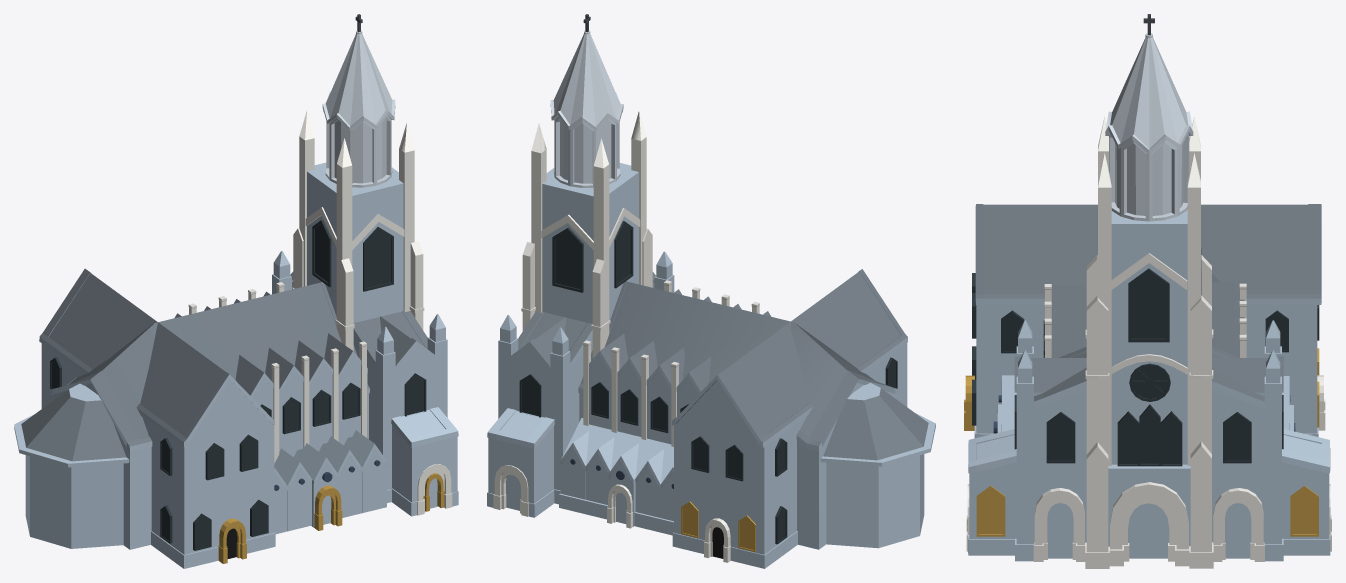
File: iglesia_ermita.glb
3 views of the same model, side by side, from view 1: azimuth 30°, elevation 25°; view 2: azimuth 150°, elevation 25°; view 3: azimuth 270°, elevation 25° (orthographic). The views are drawn at different scales.
Visible parts, largest first — view 1: Cube.056, Cube.088, Cube.003, Círculo, Cube.090, Cube.043, Cube.117, Cube.102, Cube.004, Cube.001, Cube.005, Cube.007 (+3 smaller); view 2: Cube.056, Cube.088, Círculo, Cube.083, Cube.090, Cube.102, Cube.043, Cube.117, Cube.115, Cube.008, Cube.036; view 3: Cube.088, Cube.056, Cube.090, Cube.102, Cube.043, Cube.117, Cube.115, Cube.003, Cube.083, Cube.036, Cube.005, Cube.001 (+1 smaller).
Part boxes in pixels (box(x1,y1,x2,y2)): Cube.056: box(39, 268, 369, 568); Cube.088: box(307, 162, 458, 516); Cube.003: box(235, 333, 387, 534); Círculo: box(14, 383, 129, 548); Cube.090: box(188, 110, 424, 350); Cube.043: box(322, 30, 395, 187); Cube.117: box(272, 251, 447, 502); Cube.102: box(312, 220, 426, 416); Cube.004: box(271, 341, 366, 463); Cube.001: box(193, 434, 268, 550); Cube.005: box(260, 382, 360, 434); Cube.007: box(218, 485, 342, 563); Cube.056: box(559, 269, 907, 568); Cube.088: box(487, 163, 638, 517); Círculo: box(820, 382, 935, 548); Cube.083: box(560, 333, 711, 526); Cube.090: box(521, 111, 679, 446); Cube.102: box(519, 221, 755, 552); Cube.043: box(550, 30, 623, 187); Cube.117: box(498, 251, 674, 504); Cube.115: box(493, 465, 730, 562); Cube.008: box(775, 438, 787, 544); Cube.036: box(541, 208, 640, 250); Cube.088: box(968, 209, 1330, 558); Cube.056: box(974, 204, 1321, 438); Cube.090: box(1085, 116, 1246, 568); Cube.102: box(976, 248, 1319, 536); Cube.043: box(1105, 33, 1193, 221); Cube.117: box(1014, 320, 1283, 561); Cube.115: box(966, 375, 1331, 566); Cube.003: box(997, 284, 1086, 432); Cube.083: box(1212, 282, 1294, 431); Cube.036: box(1111, 253, 1187, 374); Cube.005: box(1001, 310, 1044, 357); Cube.001: box(972, 273, 976, 425).
Bounding box in the file's own units: 4.22 × 4.58 × 2.9.
